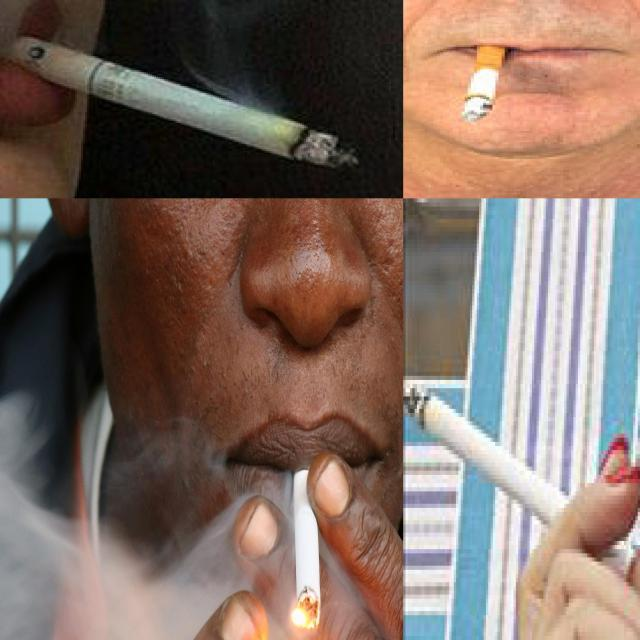cigarette: (2, 31, 360, 170), (403, 376, 631, 582), (292, 448, 323, 628), (462, 41, 504, 120)
